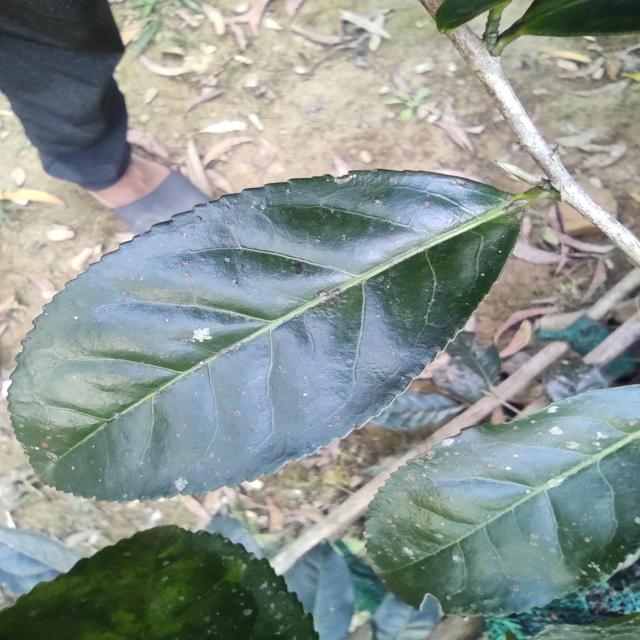Category D(7+ days, Not for Tea): (0, 159, 542, 501)
